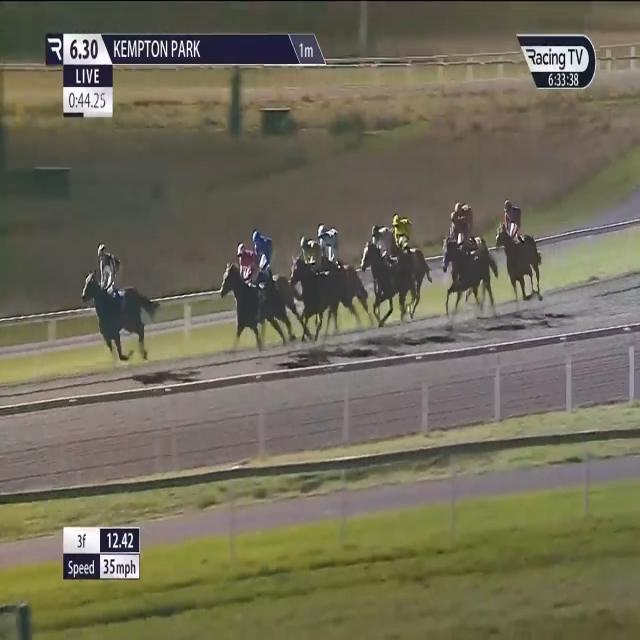horses-racing: (79, 244, 152, 358), (219, 243, 280, 334), (359, 222, 418, 316), (249, 226, 301, 326), (444, 207, 490, 311), (290, 235, 343, 320), (497, 199, 542, 296), (314, 220, 362, 307), (392, 210, 432, 298), (456, 199, 492, 261)
